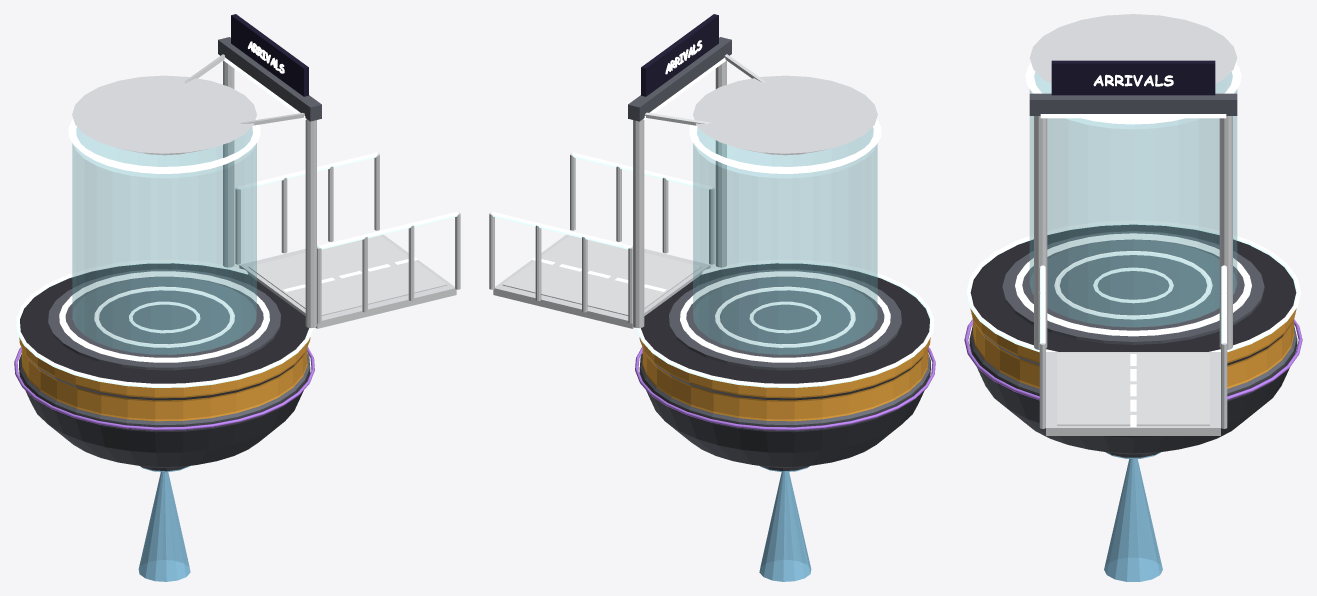
File: Customer_ArrivalDock.fbx
3 renders of one model, left to right at view 1: azimuth 30°, elevation 25°; view 2: azimuth 150°, elevation 25°; view 3: azimuth 270°, elevation 25°, orthographic. The views are drawn at different scales.
Visible parts, largest first — view 1: ArrivalDock_PadBeamGate, ArrivalDock_Slab, ArrivalDock_Ramp, ArrivalDock_Engines, ArrivalDock_NeonRim, ArrivalDock_SignBoard, ArrivalDock_NeonRimLow; view 2: ArrivalDock_PadBeamGate, ArrivalDock_Slab, ArrivalDock_Ramp, ArrivalDock_Engines, ArrivalDock_NeonRim, ArrivalDock_SignBoard, ArrivalDock_NeonRimLow; view 3: ArrivalDock_PadBeamGate, ArrivalDock_Slab, ArrivalDock_Ramp, ArrivalDock_SignBoard, ArrivalDock_Engines, ArrivalDock_NeonRim, ArrivalDock_NeonRimLow, ArrivalDock_SignFront.
Boxes of the visible parts, x1,y1,x2,y2 form: ArrivalDock_PadBeamGate: [48, 37, 321, 370]; ArrivalDock_Slab: [19, 263, 310, 467]; ArrivalDock_Ramp: [235, 152, 460, 328]; ArrivalDock_Engines: [138, 466, 190, 581]; ArrivalDock_NeonRim: [15, 259, 313, 387]; ArrivalDock_SignBoard: [231, 14, 308, 96]; ArrivalDock_NeonRimLow: [14, 347, 314, 430]; ArrivalDock_PadBeamGate: [628, 37, 901, 370]; ArrivalDock_Slab: [639, 263, 930, 467]; ArrivalDock_Ramp: [489, 152, 714, 328]; ArrivalDock_Engines: [759, 466, 811, 581]; ArrivalDock_NeonRim: [636, 259, 934, 387]; ArrivalDock_SignBoard: [641, 14, 718, 96]; ArrivalDock_NeonRimLow: [635, 347, 935, 430]; ArrivalDock_PadBeamGate: [1002, 14, 1264, 349]; ArrivalDock_Slab: [969, 224, 1297, 454]; ArrivalDock_Ramp: [1039, 265, 1227, 435]; ArrivalDock_SignBoard: [1051, 60, 1215, 95]; ArrivalDock_Engines: [1104, 452, 1162, 581]; ArrivalDock_NeonRim: [966, 220, 1300, 352]; ArrivalDock_NeonRimLow: [964, 319, 1302, 400]; ArrivalDock_SignFront: [1093, 74, 1173, 86].
Bounding box in the file's own units: 4.58 × 5.71 × 3.1.
